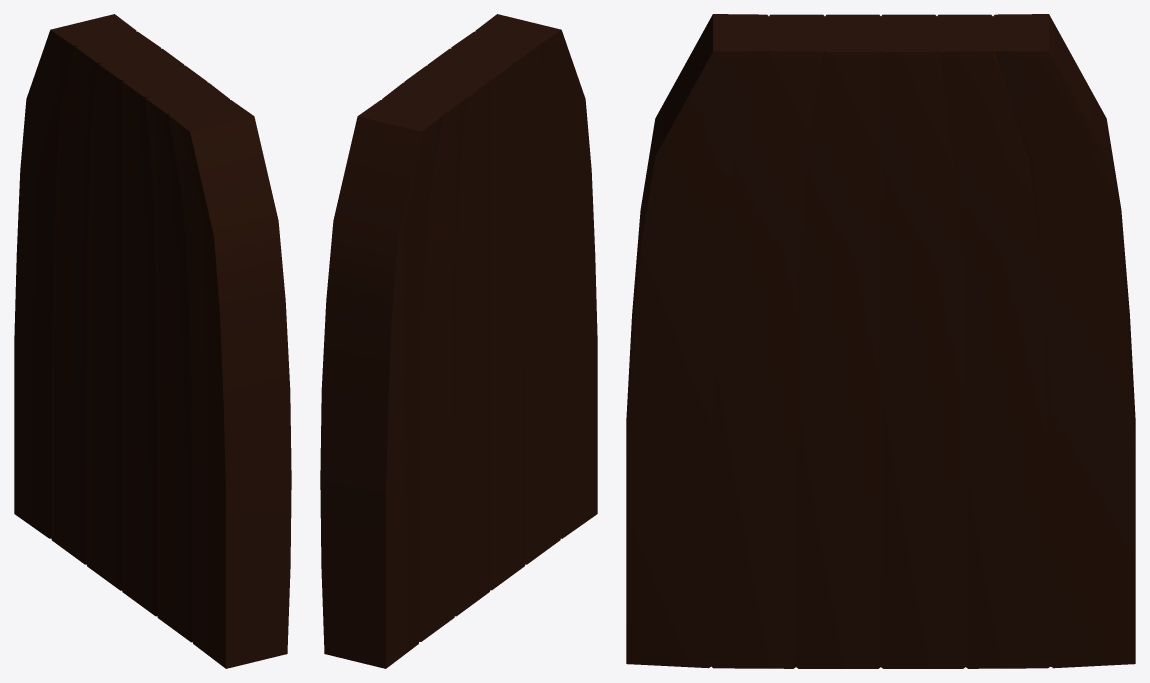
File: DoorBody.obj
The picture shows the model from 3 angles, left to right: view 1: azimuth 30°, elevation 25°; view 2: azimuth 150°, elevation 25°; view 3: azimuth 270°, elevation 25°; orthographic projection. The views are drawn at different scales.
Parts seen in each view (by area): view 1: WoodenDoor1 Doors1 HouseBase1; view 2: WoodenDoor1 Doors1 HouseBase1; view 3: WoodenDoor1 Doors1 HouseBase1.
Boxes of the visible parts, <box> form: WoodenDoor1 Doors1 HouseBase1: <box>14,14,291,668</box>; WoodenDoor1 Doors1 HouseBase1: <box>320,14,597,668</box>; WoodenDoor1 Doors1 HouseBase1: <box>626,14,1135,668</box>.
Size of the model in its own units: 0.961 by 6.27 by 4.71.
